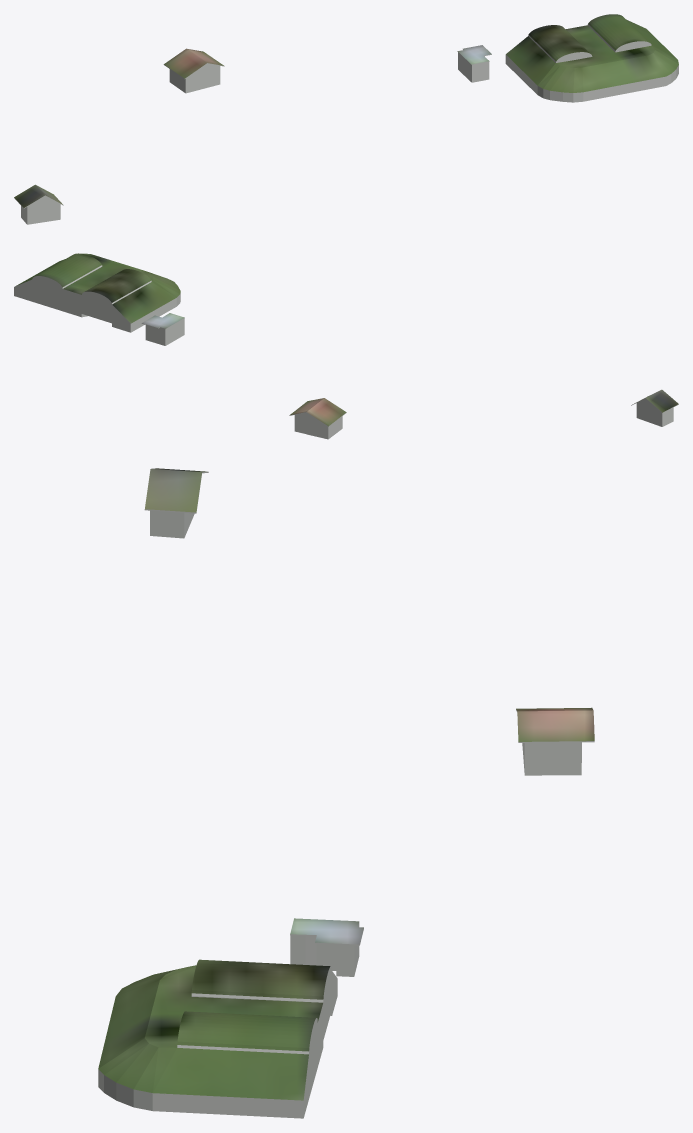
File: LSMM_-3_-1.glb
3 views of the same model, one above another, from view 1: azimuth 30°, elevation 25°; view 2: azimuth 150°, elevation 25°; view 3: azimuth 270°, elevation 25° (orthographic). The views are drawn at different scales.
Visible parts, largest first — view 1: building_bd1486780e10ed06, building_f8b423ef7846e94e, building_717d0785af8cf830, building_c566ace552e4a00a; view 2: building_bd1486780e10ed06, building_f8b423ef7846e94e, building_717d0785af8cf830, building_c566ace552e4a00a; view 3: building_bd1486780e10ed06, building_f8b423ef7846e94e, building_c566ace552e4a00a, building_717d0785af8cf830.
Boxes of the visible parts, x1=… form: building_bd1486780e10ed06: x1=457, y1=14, x2=678, y2=93; building_f8b423ef7846e94e: x1=458, y1=42, x2=678, y2=102; building_717d0785af8cf830: x1=21, y1=63, x2=220, y2=224; building_c566ace552e4a00a: x1=14, y1=48, x2=224, y2=208; building_bd1486780e10ed06: x1=14, y1=253, x2=184, y2=329; building_f8b423ef7846e94e: x1=14, y1=276, x2=184, y2=345; building_717d0785af8cf830: x1=294, y1=398, x2=673, y2=439; building_c566ace552e4a00a: x1=289, y1=389, x2=678, y2=426; building_bd1486780e10ed06: x1=98, y1=918, x2=363, y2=1101; building_f8b423ef7846e94e: x1=98, y1=923, x2=359, y2=1118; building_c566ace552e4a00a: x1=144, y1=468, x2=594, y2=742; building_717d0785af8cf830: x1=150, y1=510, x2=581, y2=775.
Bounding box in the file's own units: 237 × 10.5 × 81.16.
2 materials, 1 textured.
